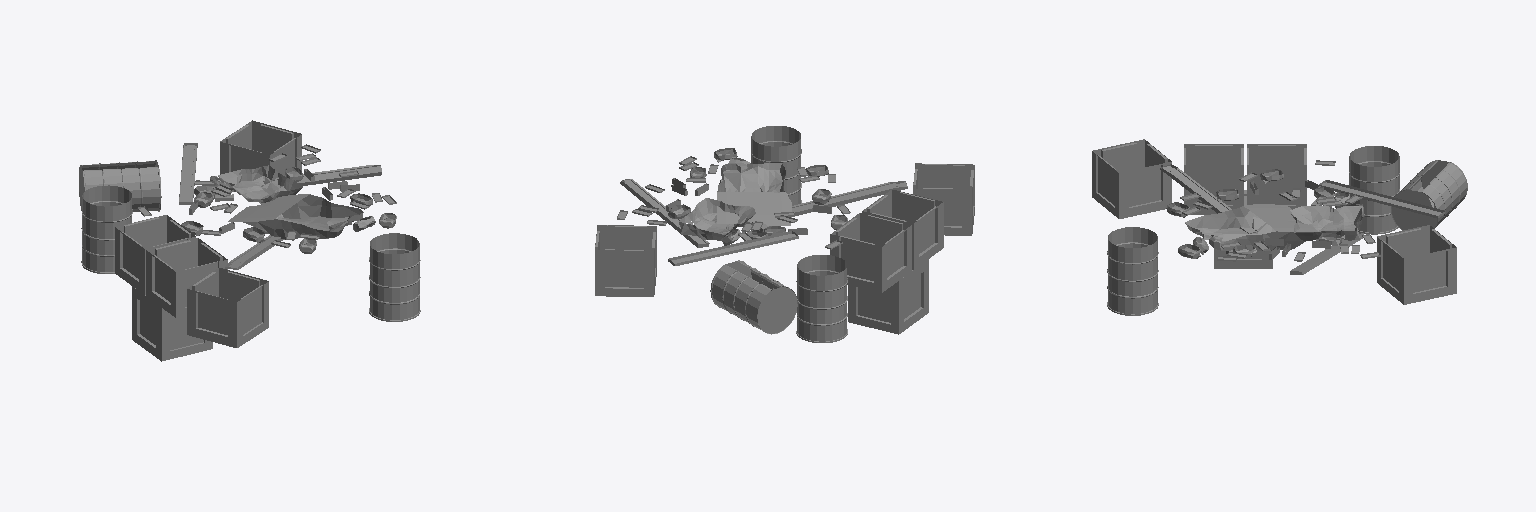
Rendered from debris.obj.
3 views of the same model, side by side, from view 1: azimuth 30°, elevation 25°; view 2: azimuth 150°, elevation 25°; view 3: azimuth 270°, elevation 25° (orthographic).
Visible parts, largest first — view 1: Object.1; view 2: Object.1; view 3: Object.1.
Part boxes in pixels (left/top/right/bottom): Object.1: left=79, top=120, right=420, bottom=361; Object.1: left=595, top=126, right=974, bottom=342; Object.1: left=1092, top=139, right=1467, bottom=315.
Size of the model in its own units: 22.34 by 7.84 by 26.65.